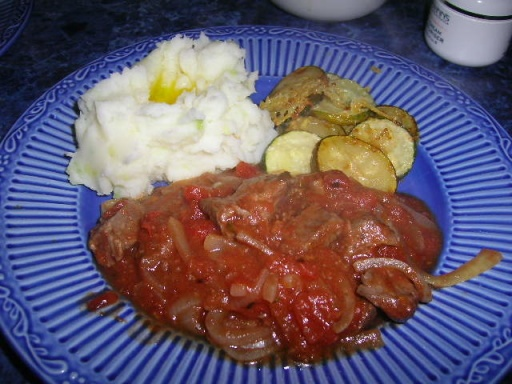background: (52, 18, 401, 219)
